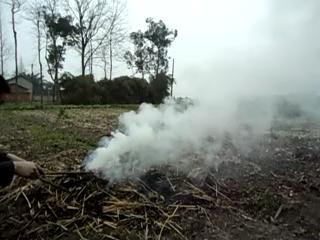smoke: (85, 60, 292, 173)
